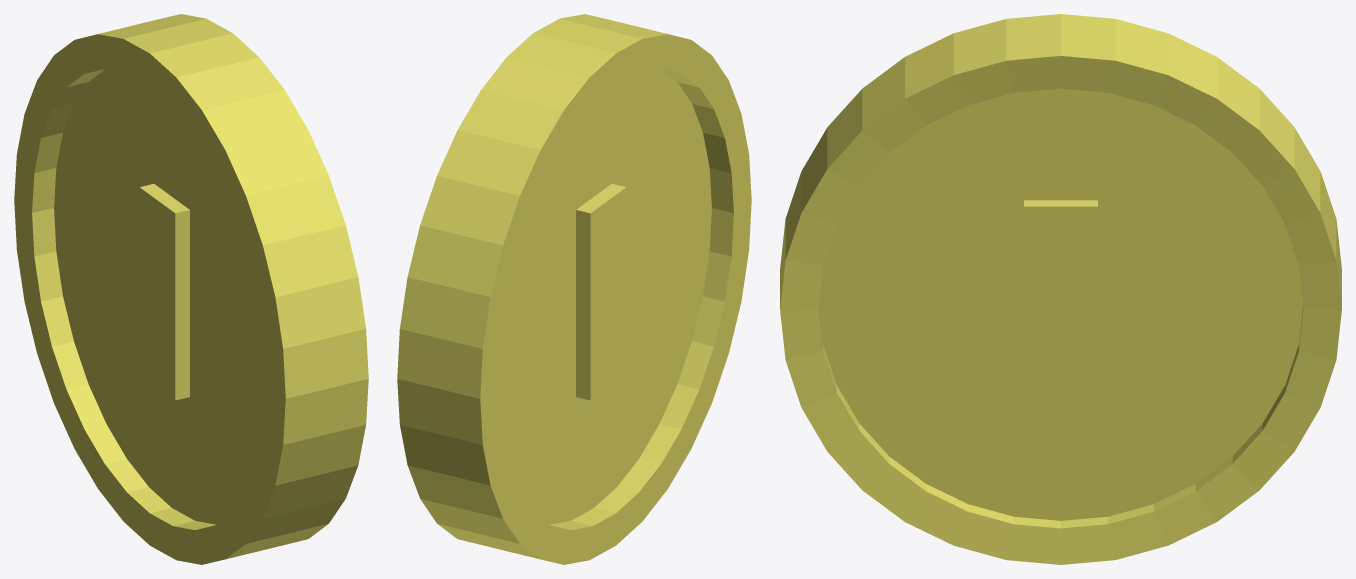
File: coin2.fbx
The picture shows the model from 3 angles, left to right: view 1: azimuth 30°, elevation 25°; view 2: azimuth 150°, elevation 25°; view 3: azimuth 270°, elevation 25°; orthographic projection. The views are drawn at different scales.
Visible parts, largest first — view 1: Cube; view 2: Cube; view 3: Cube.
Boxes of the visible parts, left/top/right/bottom form: Cube: left=14, top=14, right=368, bottom=564; Cube: left=397, top=14, right=751, bottom=564; Cube: left=780, top=14, right=1341, bottom=564.
Bounding box in the file's own units: 35.29 × 200 × 200.
